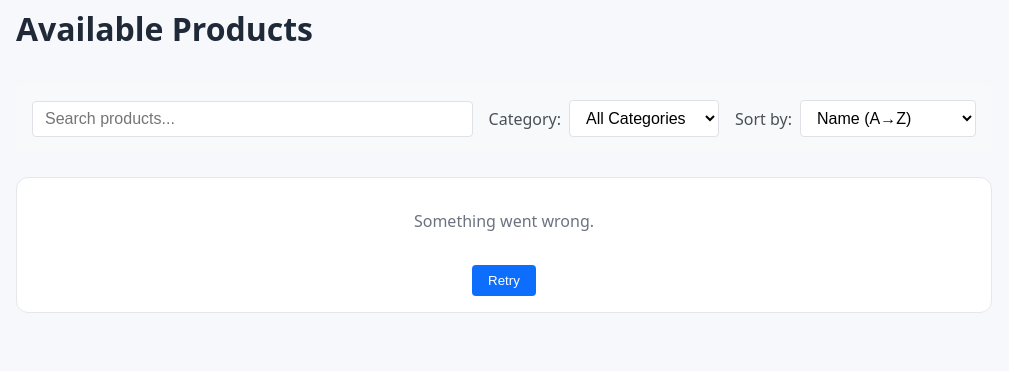
Scenario: ProductListPage › retry button reloads data after error
The width and height of the screenshot is (1009, 371).
Expected: the text "Something went wrong." is shown, [414, 210, 594, 232]
Click the button "Retry": (504, 280) [472, 265, 536, 296]
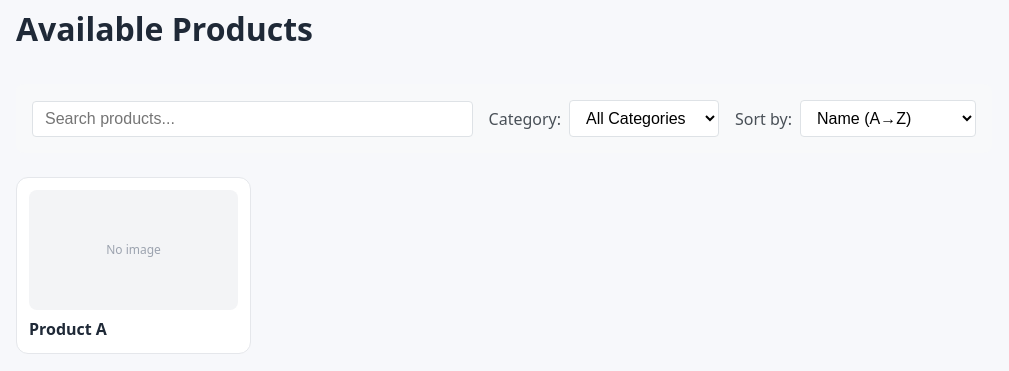
Expected: the text "Product A" is shown, [29, 318, 107, 340]
